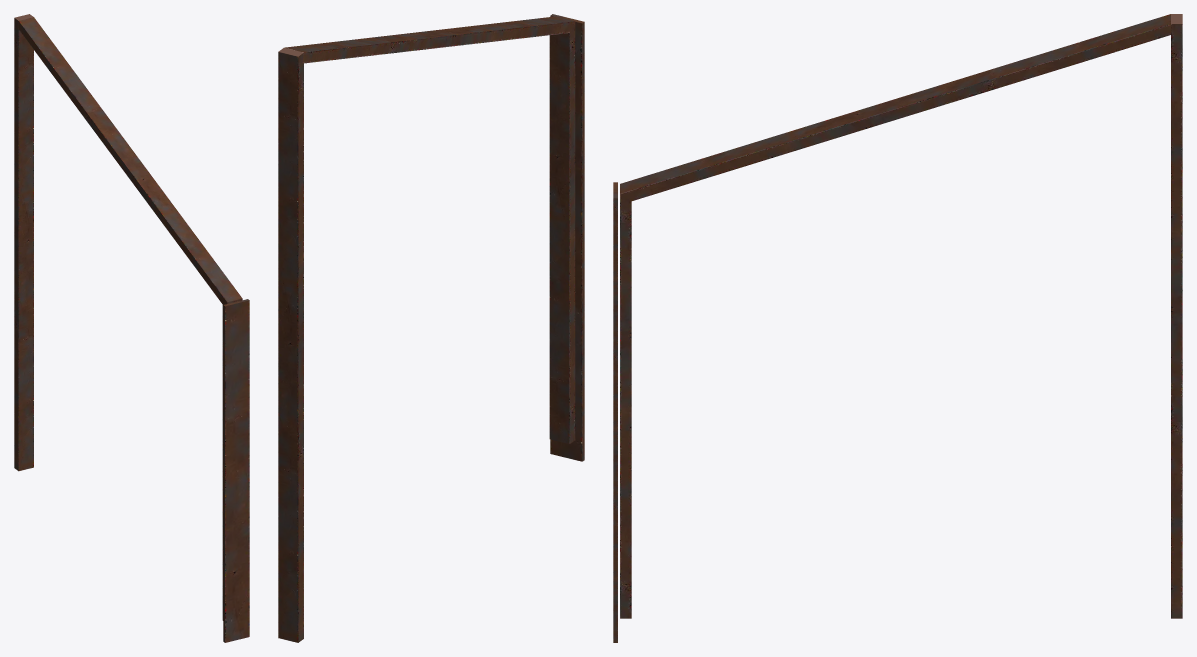
File: sbl_awning_frame_a.glb
The picture shows the model from 3 angles, left to right: view 1: azimuth 30°, elevation 25°; view 2: azimuth 150°, elevation 25°; view 3: azimuth 270°, elevation 25°; orthographic projection. The views are drawn at different scales.
Parts seen in each view (by area): view 1: sbl_awning_frame_a; view 2: sbl_awning_frame_a; view 3: sbl_awning_frame_a.
Part boxes in pixels (x1,y1,x2,y2): sbl_awning_frame_a: (14, 14, 249, 642); sbl_awning_frame_a: (278, 14, 584, 642); sbl_awning_frame_a: (613, 14, 1182, 642).
Size of the model in its own units: 0.2 by 3.62 by 3.04.
1 material, 1 textured.
